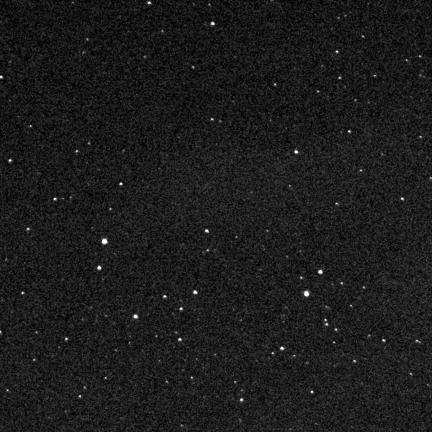blob: (133, 315, 139, 320), (102, 239, 107, 244), (304, 291, 309, 296), (295, 150, 299, 155), (211, 22, 215, 26), (179, 308, 183, 311), (193, 291, 197, 294), (98, 266, 101, 270), (205, 230, 209, 233), (280, 347, 284, 350), (319, 270, 322, 274), (178, 338, 181, 341)
